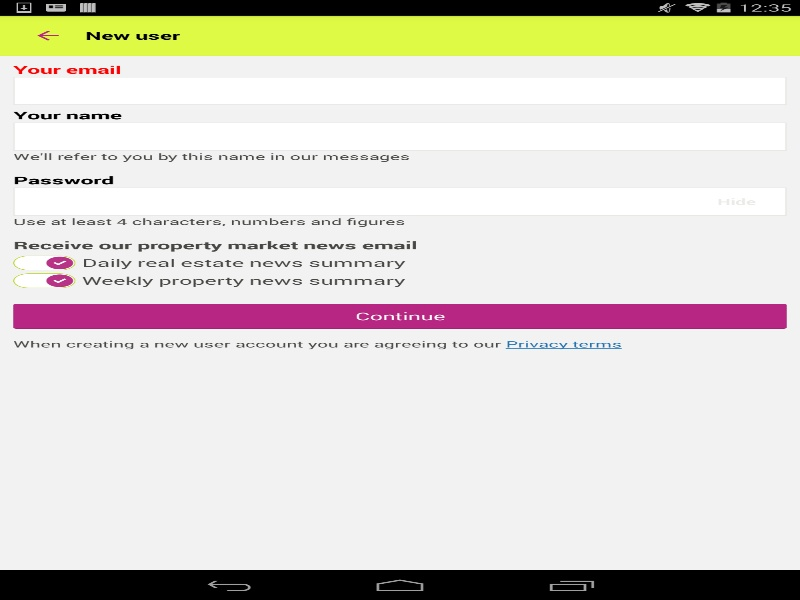Button: (13, 303, 786, 328), (10, 15, 85, 55)
Input: (13, 76, 786, 105), (13, 122, 786, 150), (33, 187, 706, 215)
